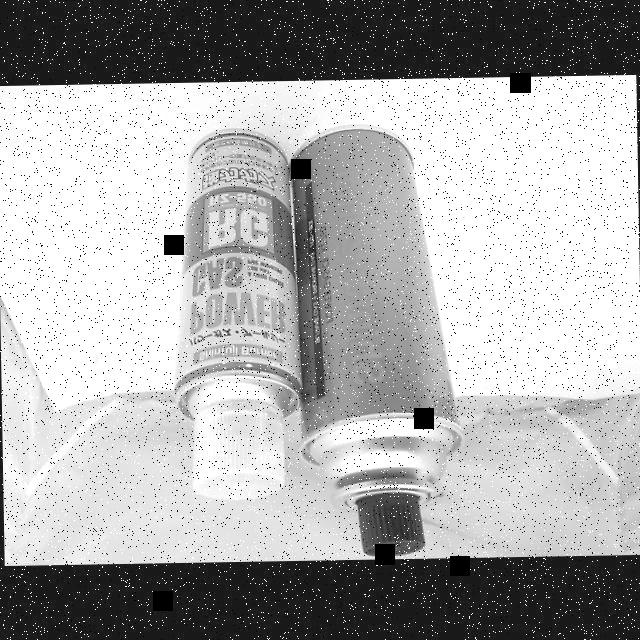chemical_spray_can: (292, 129, 464, 556), (175, 132, 300, 500)
